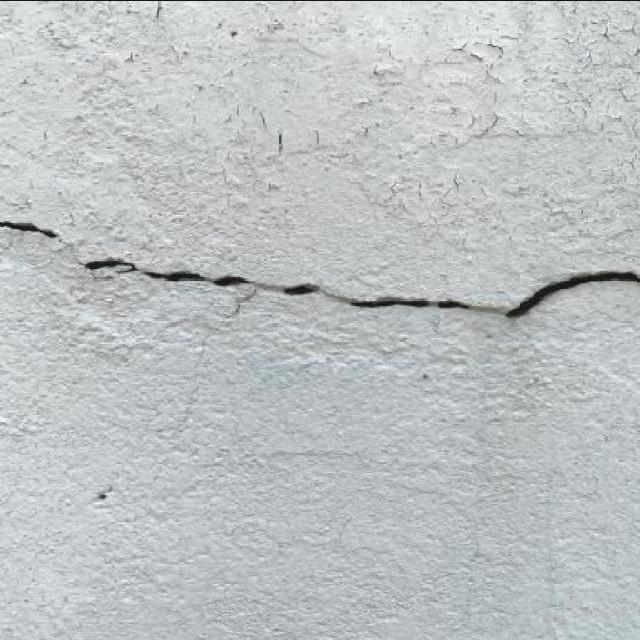crack: (0, 215, 639, 321), (70, 328, 486, 381), (1, 220, 59, 239)
